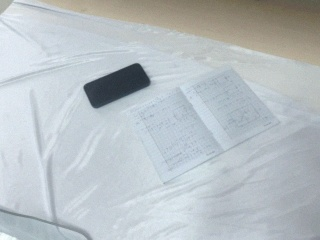phone: (83, 63, 151, 109)
